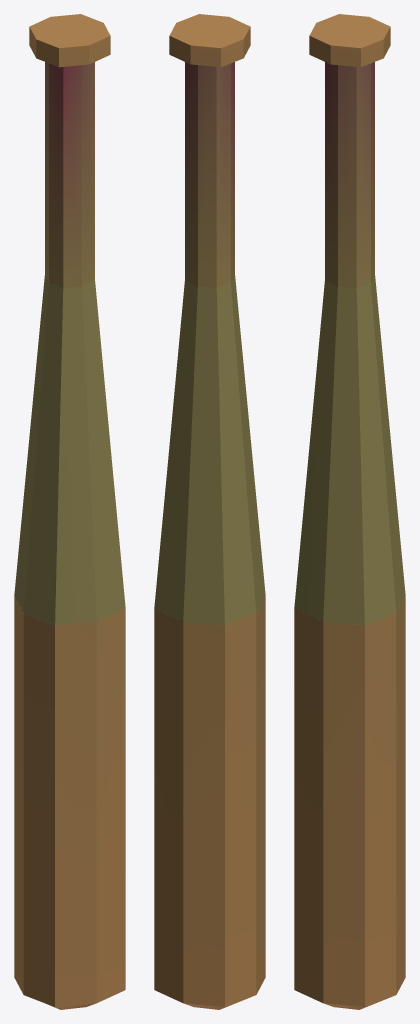
3 renders of one model, left to right at view 1: azimuth 30°, elevation 25°; view 2: azimuth 150°, elevation 25°; view 3: azimuth 330°, elevation 25°, orthographic.
Parts seen in each view (by area): view 1: barrel, taper, grip; view 2: barrel, taper, grip; view 3: barrel, taper, grip.
Part boxes in pixels (x1,y1,x2,y2): barrel: [14, 596, 125, 1009]; taper: [14, 275, 125, 626]; grip: [29, 14, 110, 288]; barrel: [154, 596, 265, 1009]; taper: [154, 275, 265, 626]; grip: [169, 14, 250, 288]; barrel: [294, 596, 405, 1009]; taper: [294, 275, 405, 626]; grip: [309, 14, 390, 288].
Size of the model in its own units: 0.0867 by 0.86 by 0.0867.
